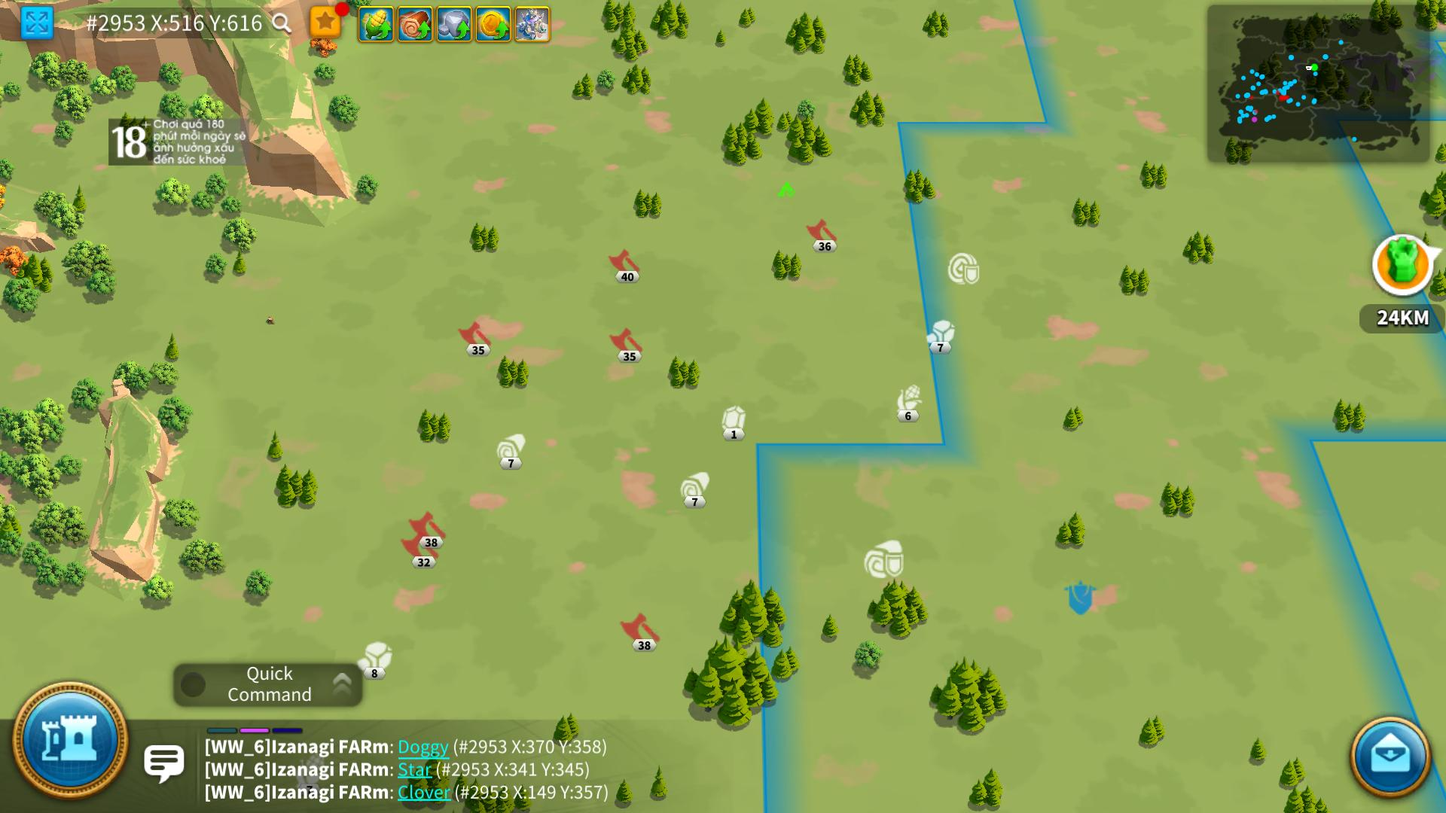gem-z-out: (722, 404, 746, 441)
